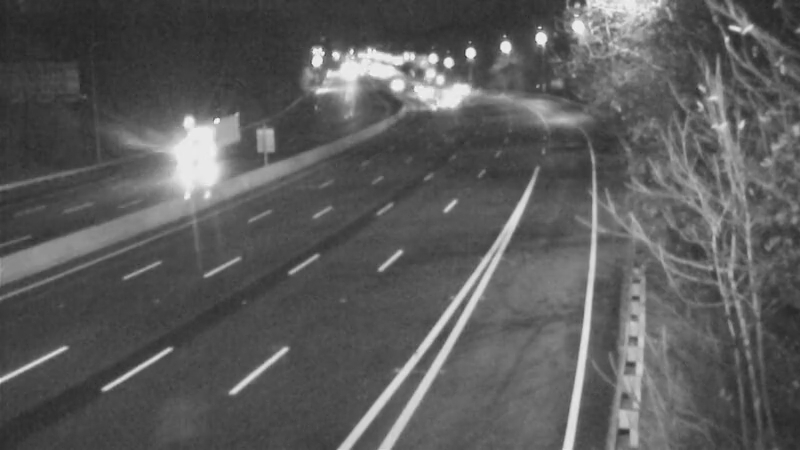vehicle: (165, 113, 245, 193), (369, 58, 419, 108), (398, 68, 448, 118), (424, 71, 474, 121), (404, 81, 454, 131)
